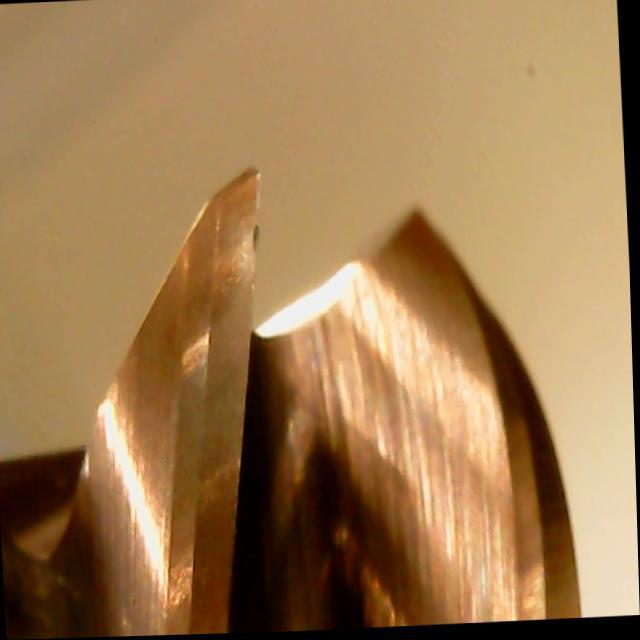Tool-wear-class-0: (176, 163, 295, 426)
